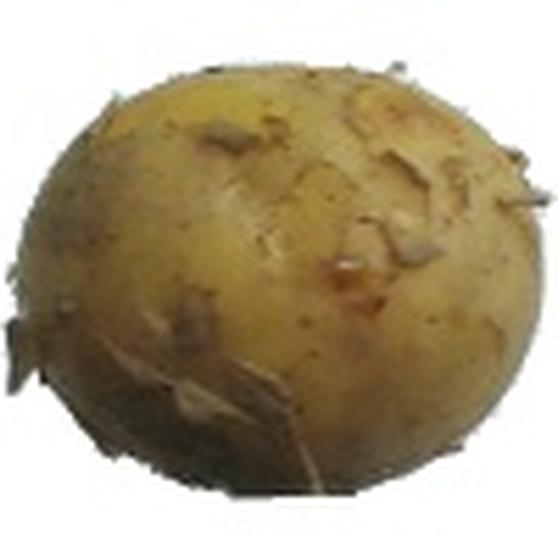potato: (9, 60, 551, 496)
